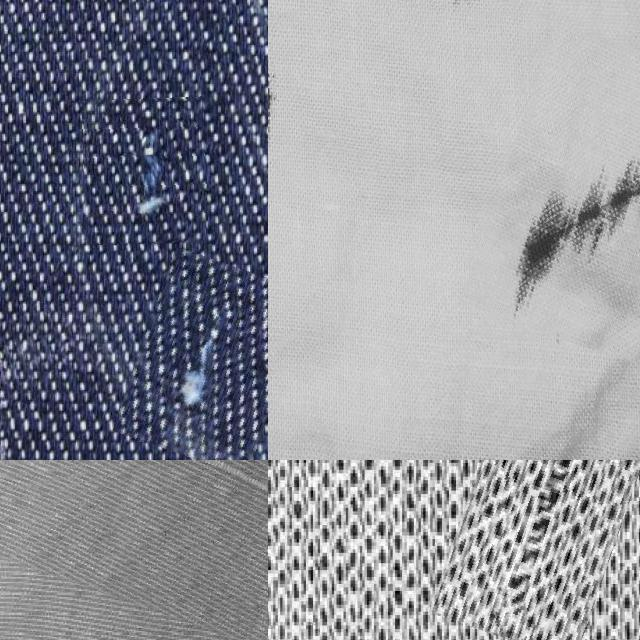Hole: (480, 36, 640, 362), (268, 36, 305, 388)
Thread_other: (0, 460, 268, 620), (457, 460, 640, 640), (126, 255, 268, 460), (83, 97, 207, 244)
